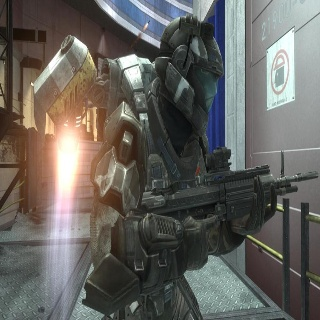rifle: (139, 147, 320, 228)
